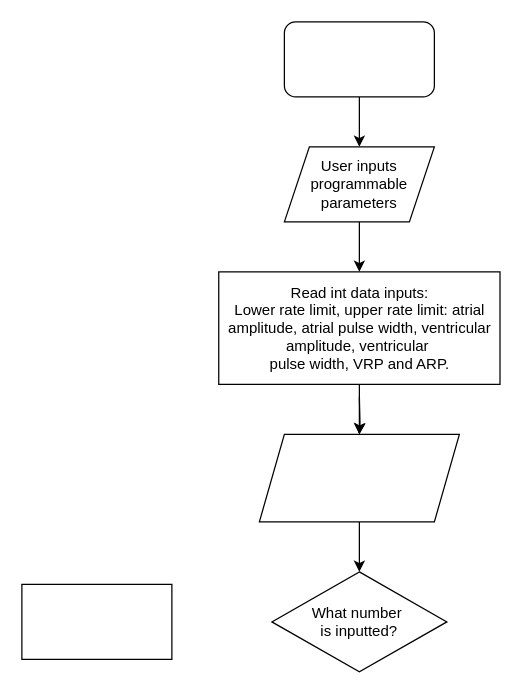
The diagram is 523 pixels wide and 694 high, and some of its shapes have lost their labels. Here are the shapes that lost their labels. From the top down, the centre of each, then its label:
At (x=358, y=59): "Pacemaker built and deployed (start)".
At (x=358, y=477): "User inputs an integer 1-4 to select the pacemaker mode.".
